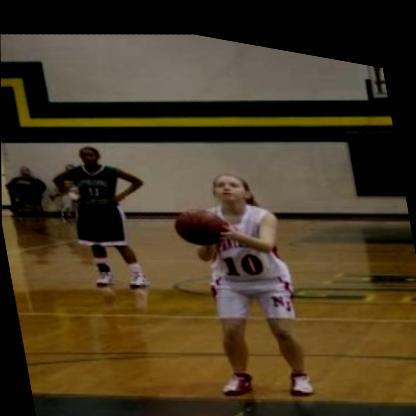basketball: (163, 183, 243, 252)
